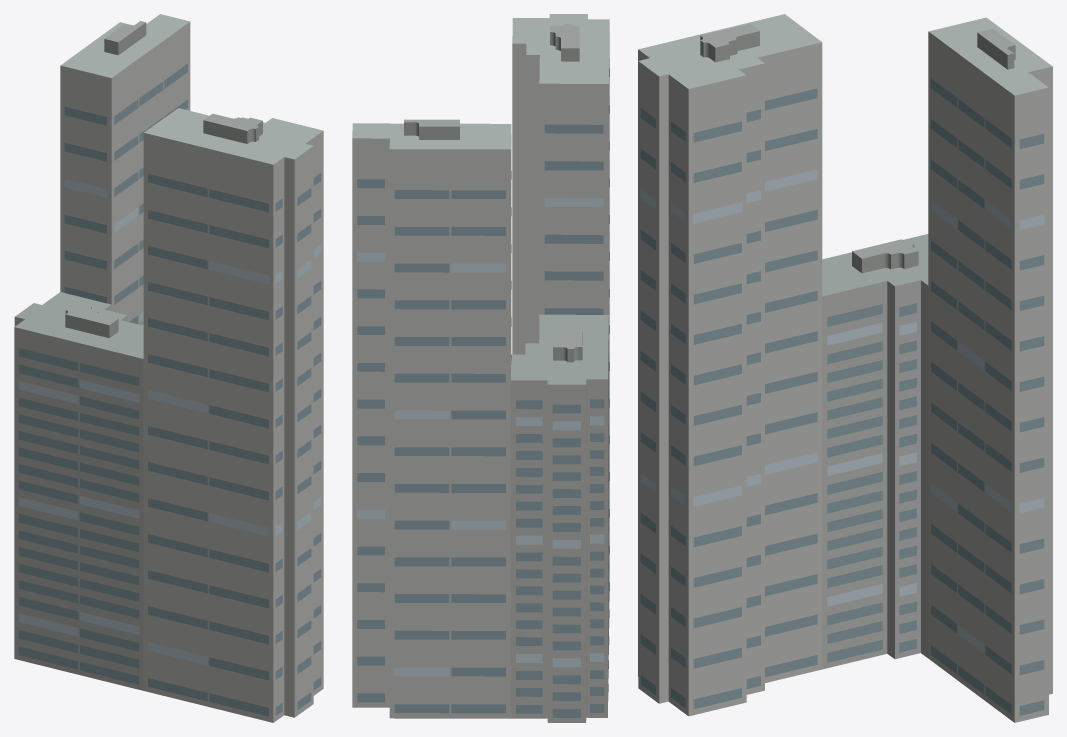
Rendered from fallback-acro-riverpark-110.glb.
3 views of the same model, side by side, from view 1: azimuth 30°, elevation 25°; view 2: azimuth 150°, elevation 25°; view 3: azimuth 270°, elevation 25° (orthographic). The views are drawn at different scales.
Parts seen in each view (by area): view 1: fallback-acro-riverpark-110; view 2: fallback-acro-riverpark-110; view 3: fallback-acro-riverpark-110.
Boxes of the visible parts, x1,y1,x2,y2 form: fallback-acro-riverpark-110: (14,14,323,722); fallback-acro-riverpark-110: (352,14,609,722); fallback-acro-riverpark-110: (638,14,1052,722).
Size of the model in its own units: 41 by 105 by 61.47.
